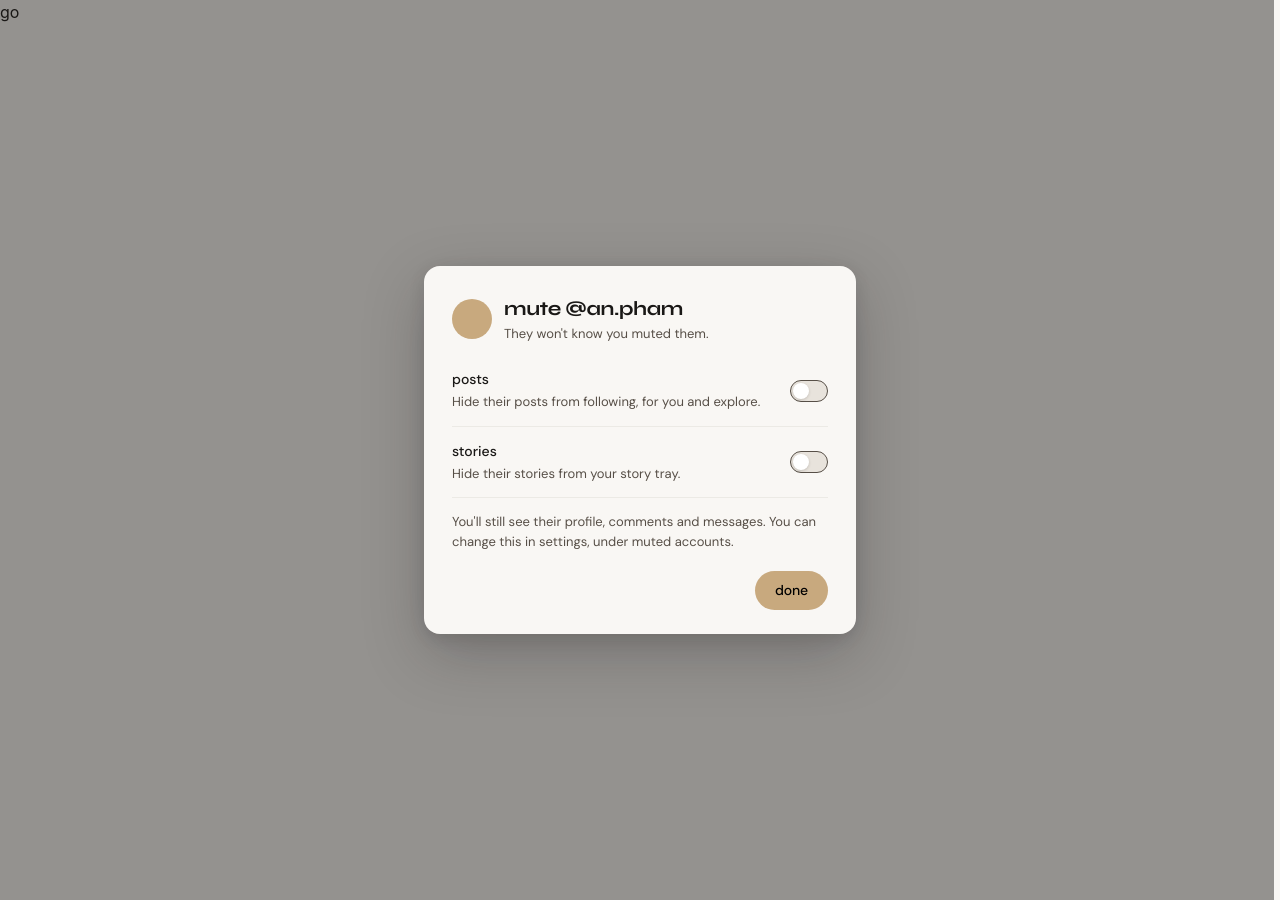
MuteDialog › puts the switch back and says so when the save is refused
The image size is (1280, 900).
Step 1. Click the switch named "posts" → (809, 390), box top-left (790, 380), bottom-right (828, 402)
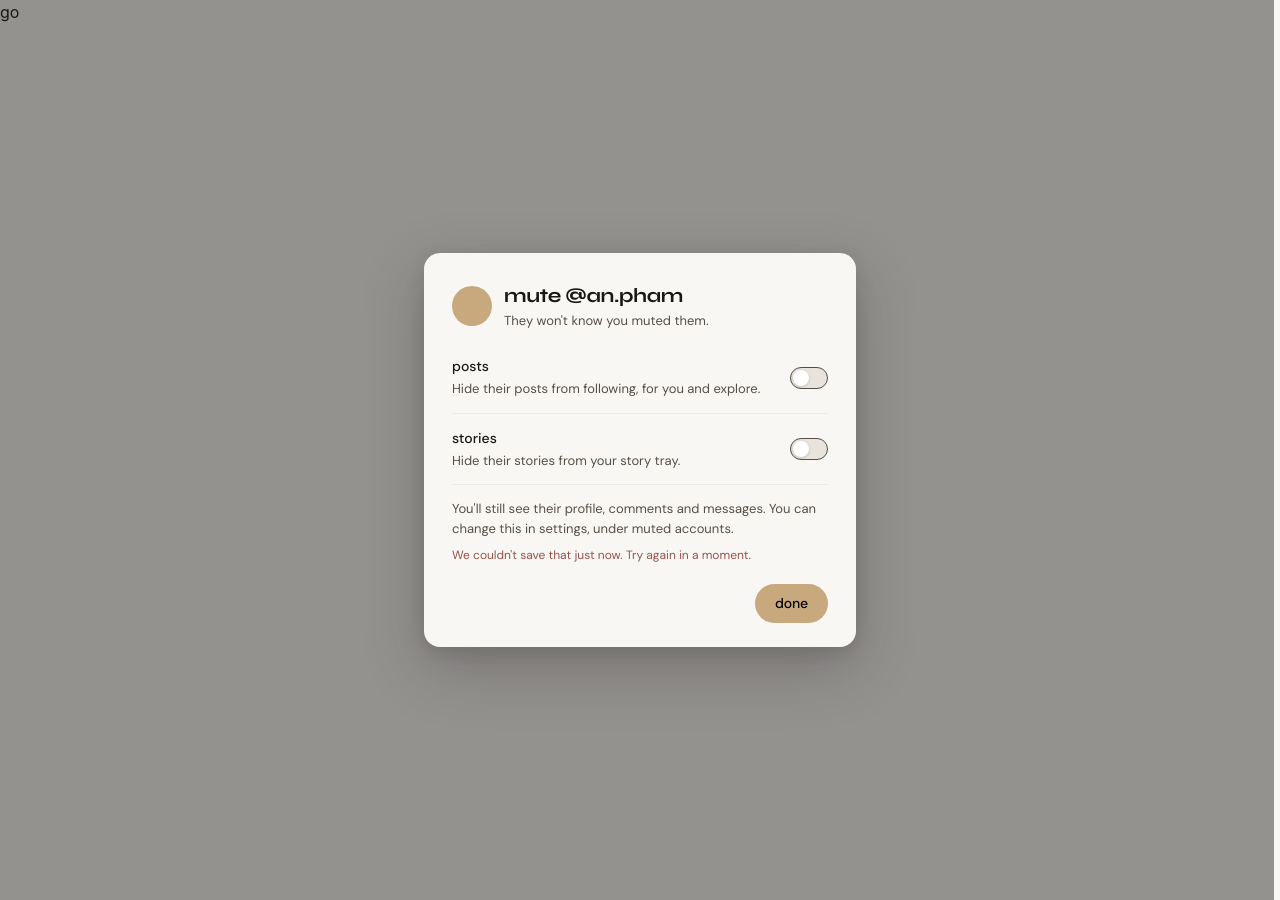
Now the message shows "We couldn't save that", box top-left (452, 547), bottom-right (751, 563)
